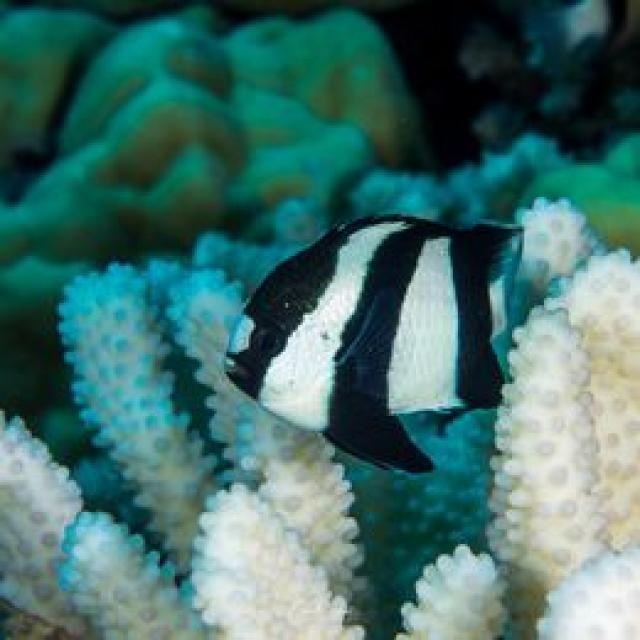Three_striped DasmselFish: (223, 212, 527, 474)
